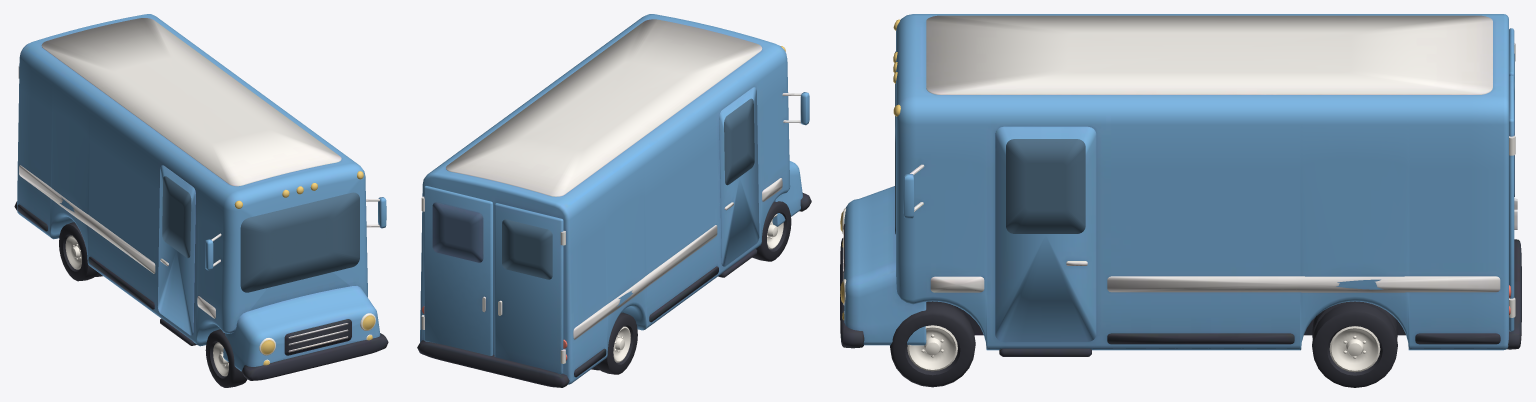
File: delivery-truck.glb
3 views of the same model, side by side, from view 1: azimuth 30°, elevation 25°; view 2: azimuth 150°, elevation 25°; view 3: azimuth 270°, elevation 25° (orthographic). The views are drawn at different scales.
Visible parts, largest first — view 1: delivery-truck_body, delivery-truck_windows, delivery-truck_wheel_fr, delivery-truck_wheel_rr, delivery-truck_headlights; view 2: delivery-truck_body, delivery-truck_rear_leaf, delivery-truck_rear_windows, delivery-truck_windows, delivery-truck_wheel_rr, delivery-truck_wheel_fr; view 3: delivery-truck_body, delivery-truck_windows, delivery-truck_wheel_rl, delivery-truck_wheel_fl, delivery-truck_rear_leaf.
Boxes of the visible parts, x1=… form: delivery-truck_body: x1=14, y1=14, x2=388, y2=380; delivery-truck_windows: x1=162, y1=176, x2=359, y2=292; delivery-truck_wheel_fr: x1=205, y1=329, x2=247, y2=387; delivery-truck_wheel_rr: x1=59, y1=222, x2=102, y2=281; delivery-truck_headlights: x1=259, y1=313, x2=375, y2=365; delivery-truck_body: x1=417, y1=14, x2=811, y2=387; delivery-truck_rear_leaf: x1=421, y1=185, x2=492, y2=355; delivery-truck_rear_windows: x1=502, y1=219, x2=552, y2=279; delivery-truck_windows: x1=724, y1=98, x2=754, y2=185; delivery-truck_wheel_rr: x1=591, y1=312, x2=637, y2=374; delivery-truck_wheel_fr: x1=752, y1=201, x2=791, y2=261; delivery-truck_body: x1=840, y1=14, x2=1521, y2=356; delivery-truck_windows: x1=895, y1=51, x2=1085, y2=234; delivery-truck_wheel_rl: x1=1312, y1=301, x2=1397, y2=387; delivery-truck_wheel_fl: x1=890, y1=301, x2=975, y2=387; delivery-truck_rear_leaf: x1=1509, y1=75, x2=1517, y2=331.
Bounding box in the file's own units: 2.77 × 2.96 × 6.33.
3 materials, 3 textured.
